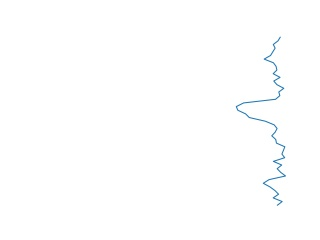interdistributaryEstuary: (229, 36, 294, 205)
